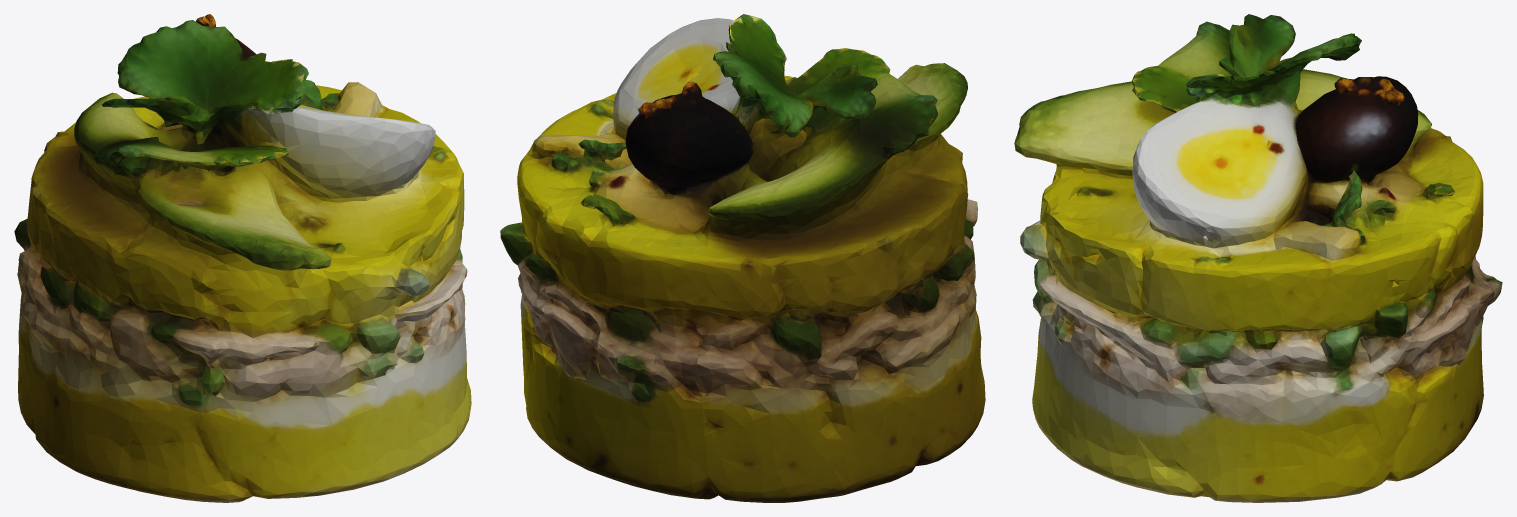
Rendered from causa_limena.glb.
3 renders of one model, left to right at view 1: azimuth 30°, elevation 25°; view 2: azimuth 150°, elevation 25°; view 3: azimuth 270°, elevation 25°, orthographic. The views are drawn at different scales.
Parts seen in each view (by area): view 1: world; view 2: world; view 3: world.
Part boxes in pixels (bbox=[...]): world: bbox=[14, 14, 471, 502]; world: bbox=[500, 14, 985, 502]; world: bbox=[1014, 14, 1502, 502].
Size of the model in its own units: 0.5241 by 0.4774 by 0.5649.
Materials: 1 (1 with a texture image).
